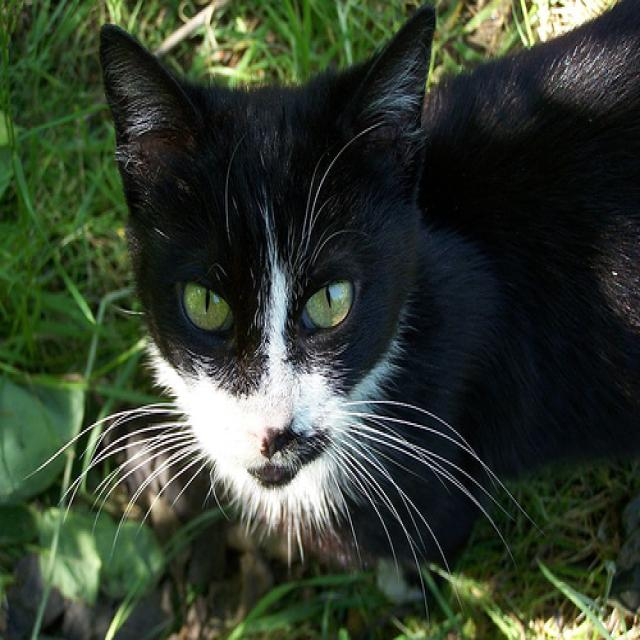left eye: (298, 273, 357, 335)
